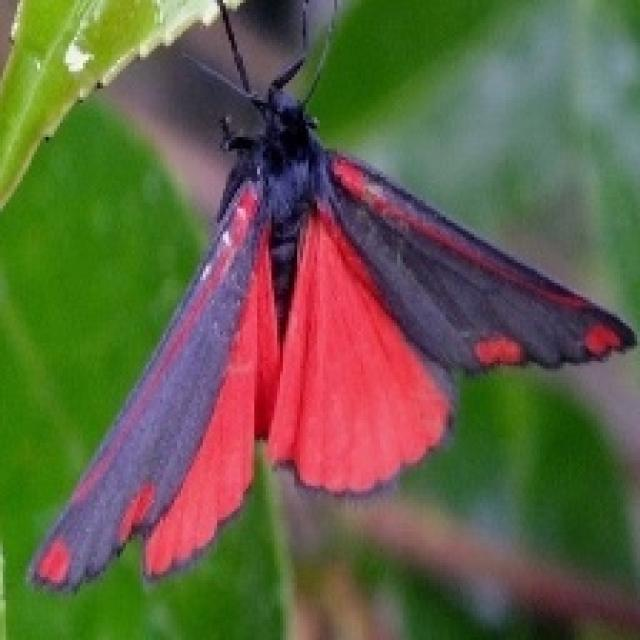butterfly: (22, 0, 637, 594)
